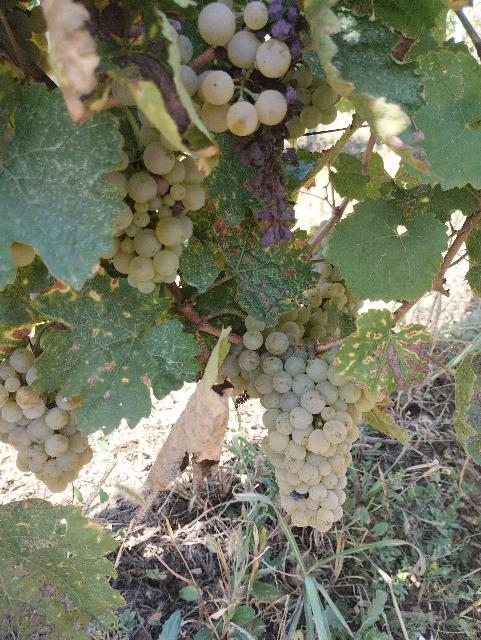grapes: (239, 331, 385, 532), (0, 346, 92, 494)
